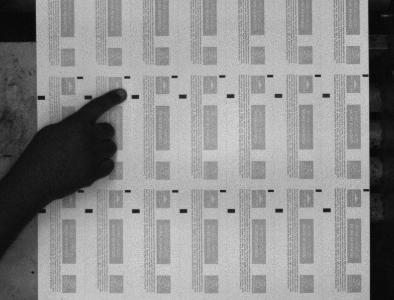qblock: (322, 93, 331, 98), (37, 95, 46, 100), (179, 94, 187, 99), (276, 208, 284, 213), (131, 95, 140, 99), (275, 94, 283, 98), (227, 94, 235, 98), (227, 209, 235, 213), (180, 209, 188, 213), (132, 209, 140, 213), (323, 208, 331, 212), (85, 209, 93, 213), (84, 95, 92, 99)
smallqblock: (38, 209, 46, 213), (220, 189, 227, 192), (172, 190, 179, 193), (268, 189, 275, 192), (267, 74, 274, 77), (219, 75, 226, 78), (77, 76, 84, 79), (124, 76, 131, 79), (363, 74, 369, 77), (125, 190, 131, 193), (316, 189, 322, 192), (315, 74, 321, 77), (172, 75, 178, 78), (78, 190, 84, 193), (364, 189, 370, 191)
